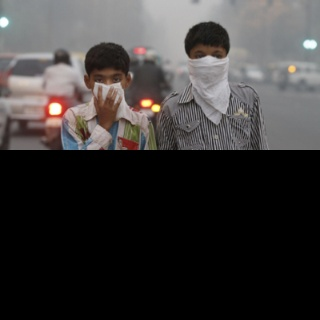with_mask: (189, 48, 228, 82), (89, 72, 126, 105)
